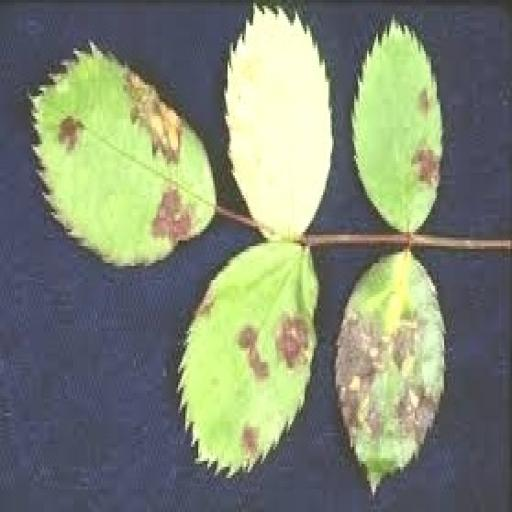downy_mildew: (34, 49, 214, 265), (180, 241, 317, 475), (336, 252, 444, 489), (226, 9, 332, 237), (353, 23, 442, 231)
